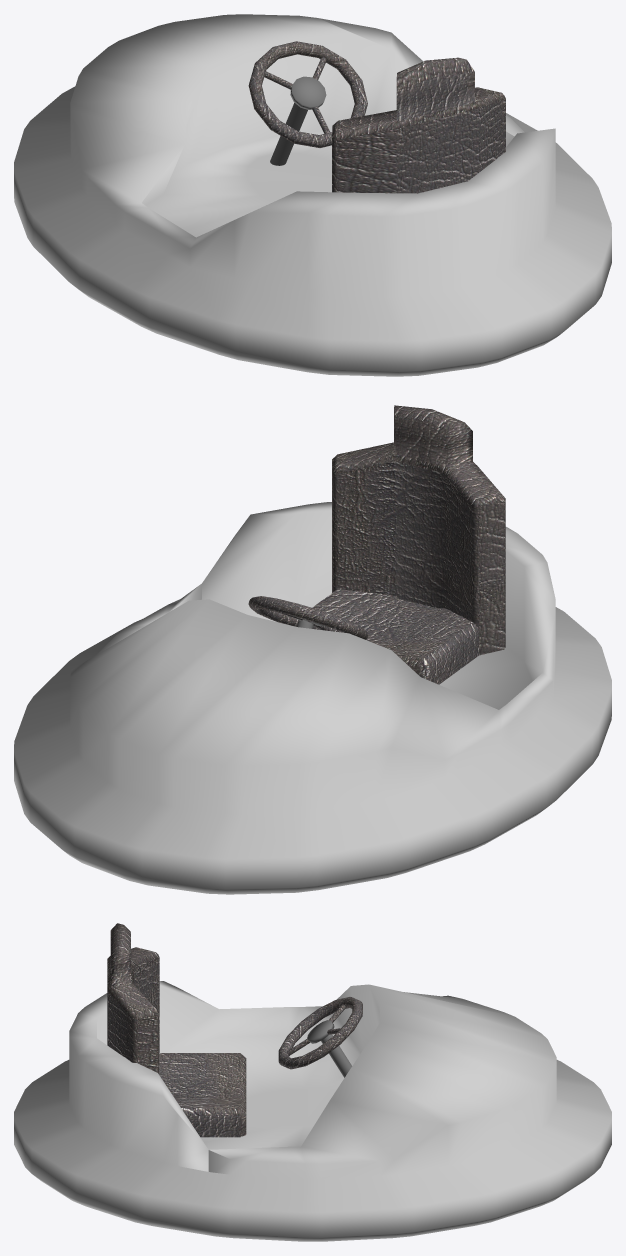
Rendered from bumper_car.fbx.
3 views of the same model, one above another, from view 1: azimuth 30°, elevation 25°; view 2: azimuth 150°, elevation 25°; view 3: azimuth 270°, elevation 25° (orthographic). The views are drawn at different scales.
Visible parts, largest first — view 1: bumper_obj_uv:pCylinder1, polySurface1, polySurface6, polySurface5; view 2: bumper_obj_uv:pCylinder1, polySurface1, polySurface6; view 3: bumper_obj_uv:pCylinder1, polySurface1, polySurface6.
Boxes of the visible parts, x1=… form: bumper_obj_uv:pCylinder1: x1=14, y1=14, x2=611, y2=376; polySurface1: x1=332, y1=57, x2=505, y2=193; polySurface6: x1=248, y1=41, x2=367, y2=147; polySurface5: x1=270, y1=103, x2=307, y2=165; bumper_obj_uv:pCylinder1: x1=14, y1=502, x2=611, y2=894; polySurface1: x1=312, y1=405, x2=505, y2=684; polySurface6: x1=248, y1=596, x2=367, y2=639; bumper_obj_uv:pCylinder1: x1=14, y1=981, x2=611, y2=1241; polySurface1: x1=107, y1=923, x2=246, y2=1137; polySurface6: x1=278, y1=997, x2=362, y2=1069.
Size of the model in its own units: 142 by 73.84 by 185.
